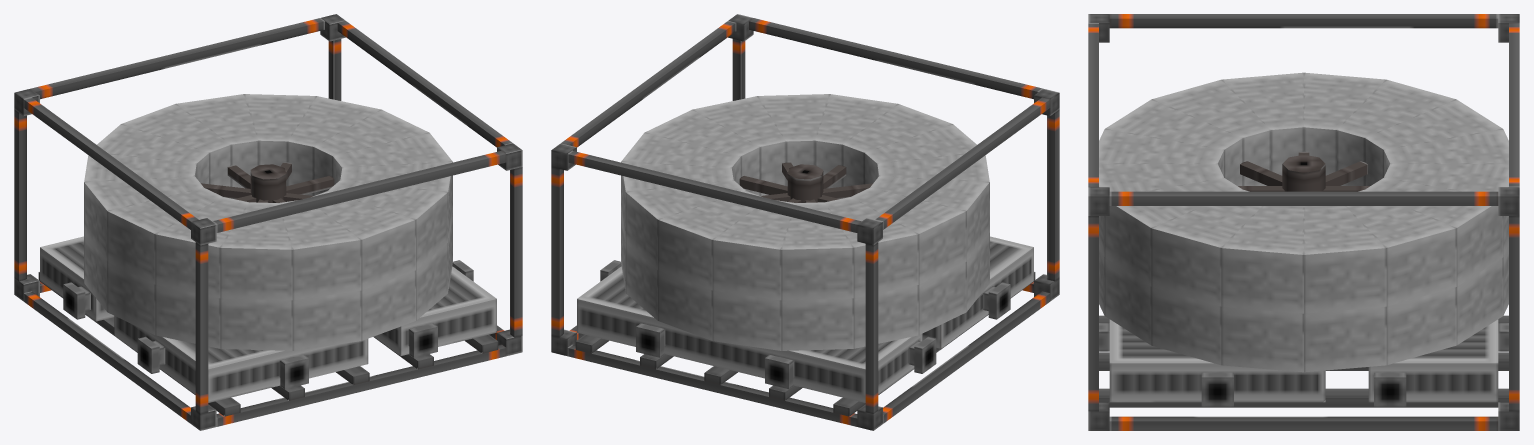
Rendered from rockmill.obj.
3 renders of one model, left to right at view 1: azimuth 30°, elevation 25°; view 2: azimuth 150°, elevation 25°; view 3: azimuth 270°, elevation 25°, orthographic. The views are drawn at different scales.
Parts seen in each view (by area): view 1: Wheel, Base, Frame; view 2: Wheel, Base, Frame; view 3: Wheel, Base, Frame.
Part boxes in pixels (x1,y1,x2,y2): Wheel: (84,94,452,300); Base: (14,213,522,430); Frame: (14,14,522,413); Wheel: (621,94,989,300); Base: (551,213,1059,430); Frame: (551,14,1059,413); Wheel: (1099,72,1508,313); Base: (1088,246,1519,430); Frame: (1088,14,1519,411).
Size of the model in its own units: 5 by 3 by 5.
